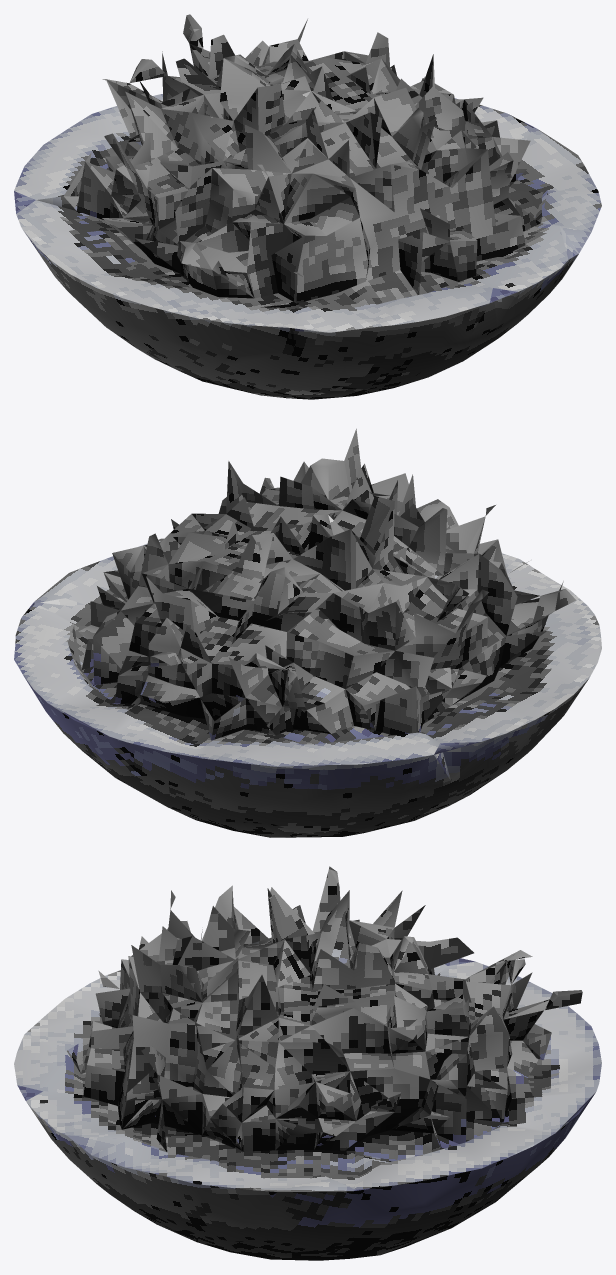
The model's file is cactus_pot.glb.
3 views of the same model, one above another, from view 1: azimuth 30°, elevation 25°; view 2: azimuth 150°, elevation 25°; view 3: azimuth 270°, elevation 25° (orthographic).
Visible parts, largest first — view 1: mesh; view 2: mesh; view 3: mesh.
Part boxes in pixels (x1,y1,x2,y2): mesh: (14, 14, 601, 399); mesh: (14, 428, 601, 837); mesh: (14, 866, 601, 1260).
Bounding box in the file's own units: 0.2853 × 0.15 × 0.2877.
Materials: 1 (1 with a texture image).
